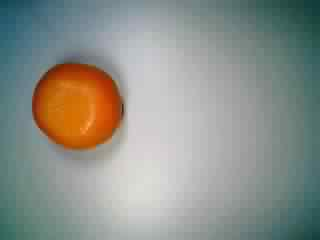orange: (27, 57, 128, 152)
